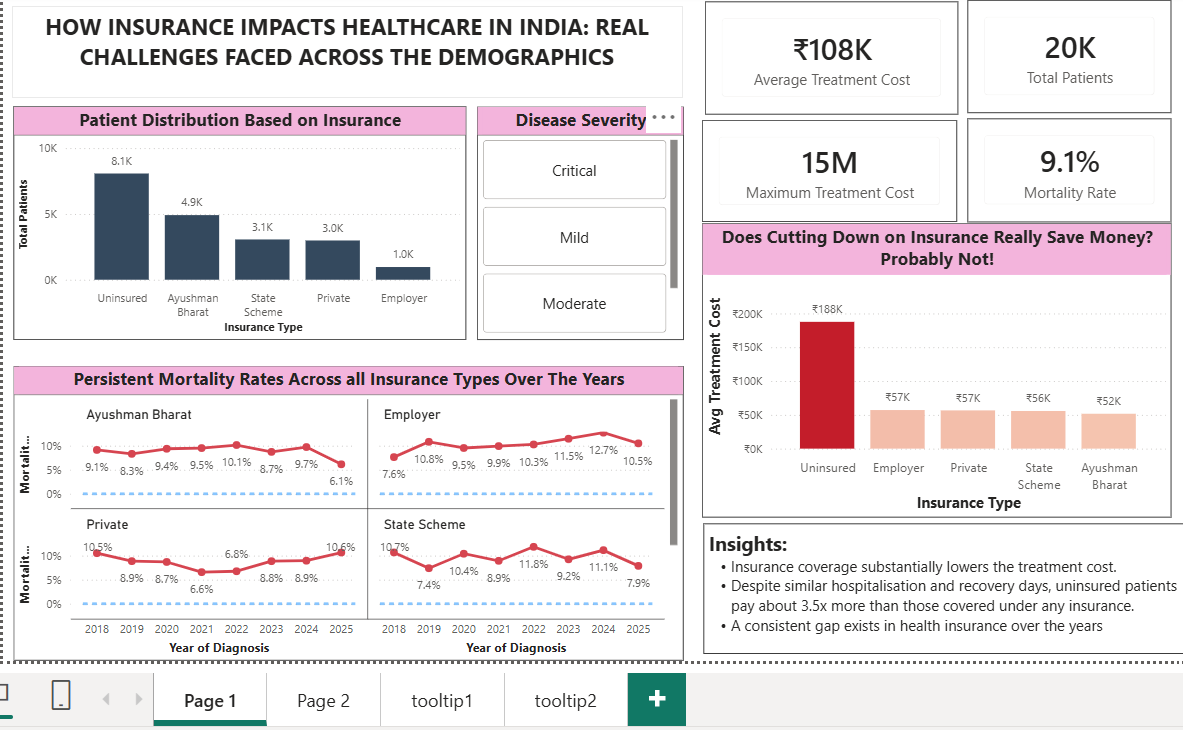

This screenshot's page, from the dashboard's own definition file:
{"tool":"powerbi","page":{"name":"Page 1","canvas":[1280,720],"ordinal":0},"visuals":[{"type":"cardVisual","fields":{"Data":["indian_diseases cleaned.Total Patients"]},"box":[1041.7,6.7,220,121.7],"z":0},{"type":"cardVisual","fields":{"Data":["indian_diseases cleaned.Average Treatment Cost"]},"box":[757.2,8.9,273.3,121.7],"z":1000},{"type":"cardVisual","fields":{"Data":["indian_diseases cleaned.Mortality Rate"]},"box":[1041.7,135,220,111.7],"z":2000},{"type":"advancedSlicerVisual","title":"Disease Severity","fields":{"Values":["indian_diseases cleaned.severity"]},"box":[511.1,121.1,223.3,251.7],"z":3000},{"type":"columnChart","title":"Patient Distribution Based on Insurance","fields":{"Category":["indian_diseases cleaned.insurance_status"],"Y":["indian_diseases cleaned.Total Patients"]},"box":[11.1,121.1,488.3,251.7],"z":4000},{"type":"cardVisual","fields":{"Data":["indian_diseases cleaned.Maximum Treatment Cost"]},"box":[755,136.7,275,110],"z":5000},{"type":"lineChart","title":"Persistent Mortality Rates Across all Insurance Types Over The Years","fields":{"Category":["indian_diseases cleaned.diagnosis_year"],"Y":["indian_diseases cleaned.Mortality Rate"],"Rows":["indian_diseases cleaned.insurance_status"]},"box":[11,402,723,318],"z":6000},{"type":"columnChart","title":"Does Cutting Down on Insurance Really Save Money? Probably Not!","fields":{"Category":["indian_diseases cleaned.insurance_status"],"Y":["indian_diseases cleaned.Average Treatment Cost"]},"box":[754.6,247.7,506.8,317.4],"z":7000},{"type":"textbox","box":[756.2,571.6,524.6,140.9],"z":8000},{"type":"textbox","box":[10,13.3,723.3,98.3],"z":9000}]}

Visuals, with their boxes on the page's 1280x720 design canvas (x1, y1, x2, y2). These are canvas units, not pixel positions in the 1183x730 screenshot, which may show the page scaled, cropped or inside an application window:
cardVisual - indian_diseases cleaned.Total Patients: x1=1042, y1=7, x2=1262, y2=128
cardVisual - indian_diseases cleaned.Average Treatment Cost: x1=757, y1=9, x2=1030, y2=131
cardVisual - indian_diseases cleaned.Mortality Rate: x1=1042, y1=135, x2=1262, y2=247
"Disease Severity" advancedSlicerVisual: x1=511, y1=121, x2=734, y2=373
"Patient Distribution Based on Insurance" columnChart: x1=11, y1=121, x2=499, y2=373
cardVisual - indian_diseases cleaned.Maximum Treatment Cost: x1=755, y1=137, x2=1030, y2=247
"Persistent Mortality Rates Across all Insurance Types Over The Years" lineChart: x1=11, y1=402, x2=734, y2=720
"Does Cutting Down on Insurance Really Save Money? Probably Not!" columnChart: x1=755, y1=248, x2=1261, y2=565
textbox: x1=756, y1=572, x2=1281, y2=712
textbox: x1=10, y1=13, x2=733, y2=112
